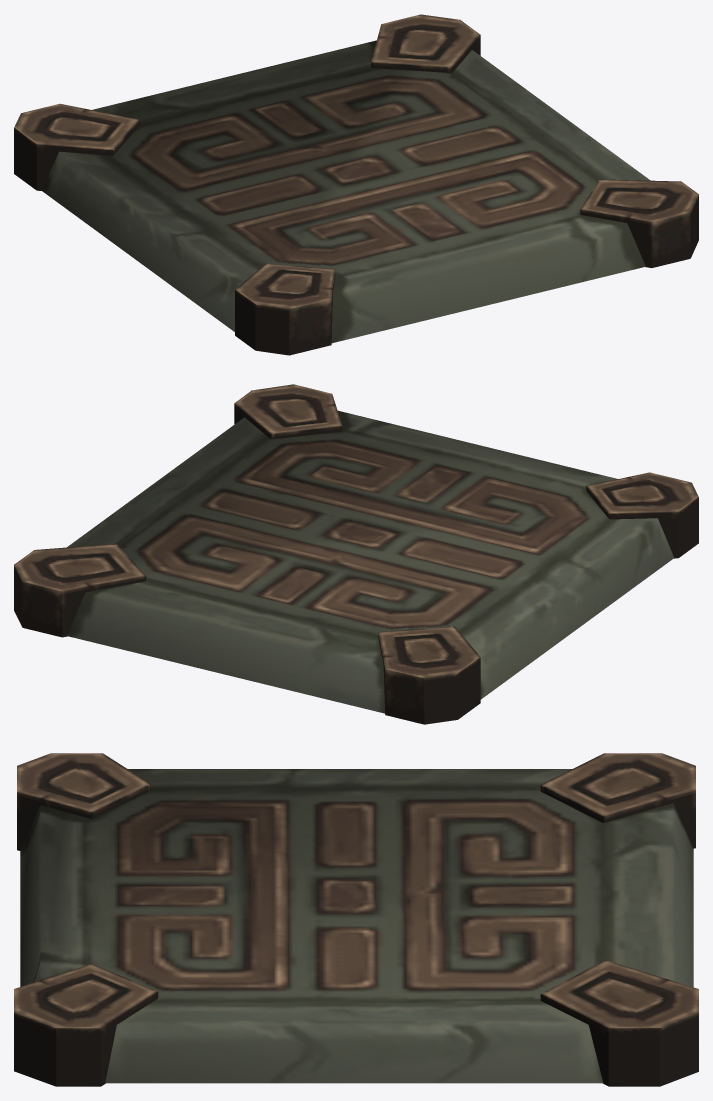
Rendered from yw_newshanlin_longzhuan_001.FBX.
3 views of the same model, one above another, from view 1: azimuth 30°, elevation 25°; view 2: azimuth 150°, elevation 25°; view 3: azimuth 270°, elevation 25° (orthographic). The views are drawn at different scales.
Visible parts, largest first — view 1: yw_newshanlin_longzhuan_001; view 2: yw_newshanlin_longzhuan_001; view 3: yw_newshanlin_longzhuan_001.
Boxes of the visible parts, <box> form: yw_newshanlin_longzhuan_001: <box>14,14,698,355</box>; yw_newshanlin_longzhuan_001: <box>14,384,698,724</box>; yw_newshanlin_longzhuan_001: <box>14,753,698,1086</box>.
Bounding box in the file's own units: 0.6048 × 0.636 × 0.0597.
